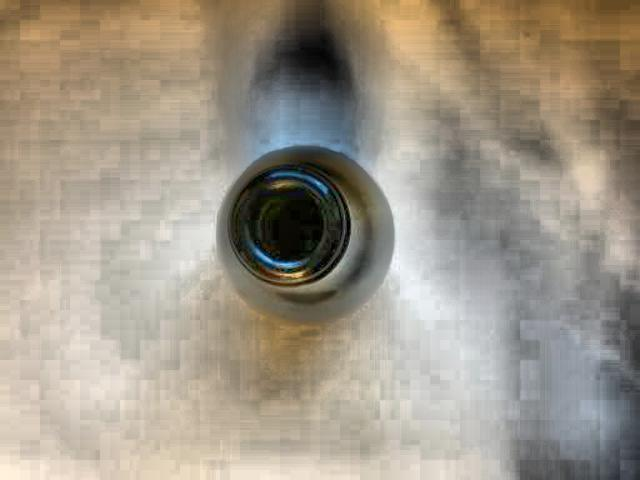Bottles: (161, 119, 434, 326)
